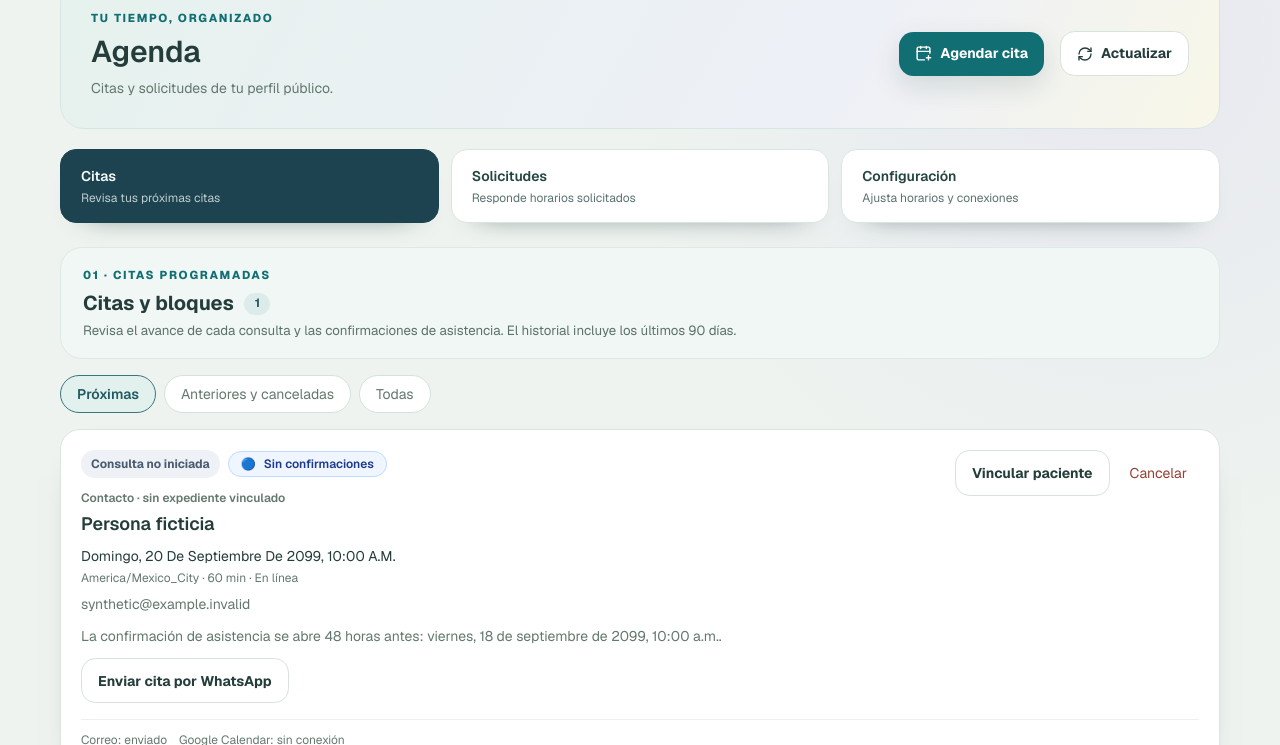
Test: private agenda › resolves internal blocks with verified private auth, not a public slug
Expected: the heading "Persona ficticia" is shown, [81, 512, 215, 536]
Click the button "Configuración" at (909,176), box [841, 149, 1220, 223]
(page scrolled)
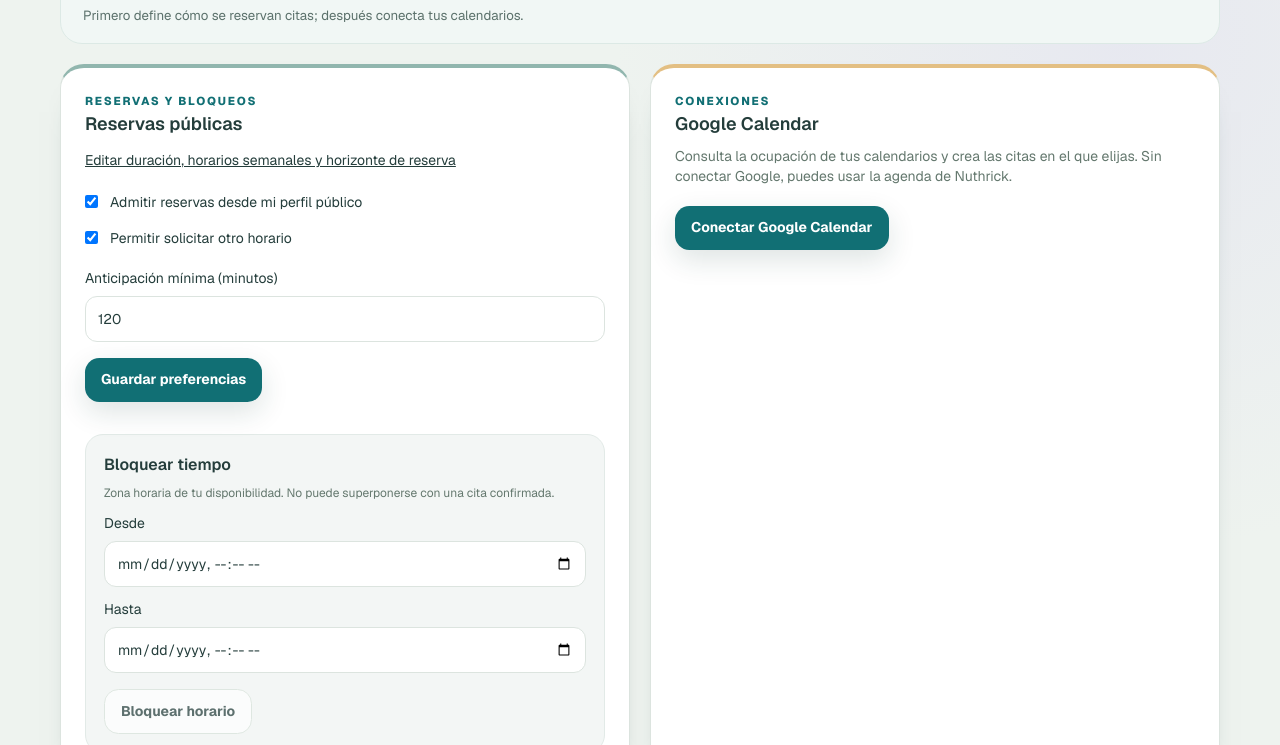
Type "2026-09-20T10:00" into the field labelled "Desde" at (345,564), box [104, 541, 586, 587]
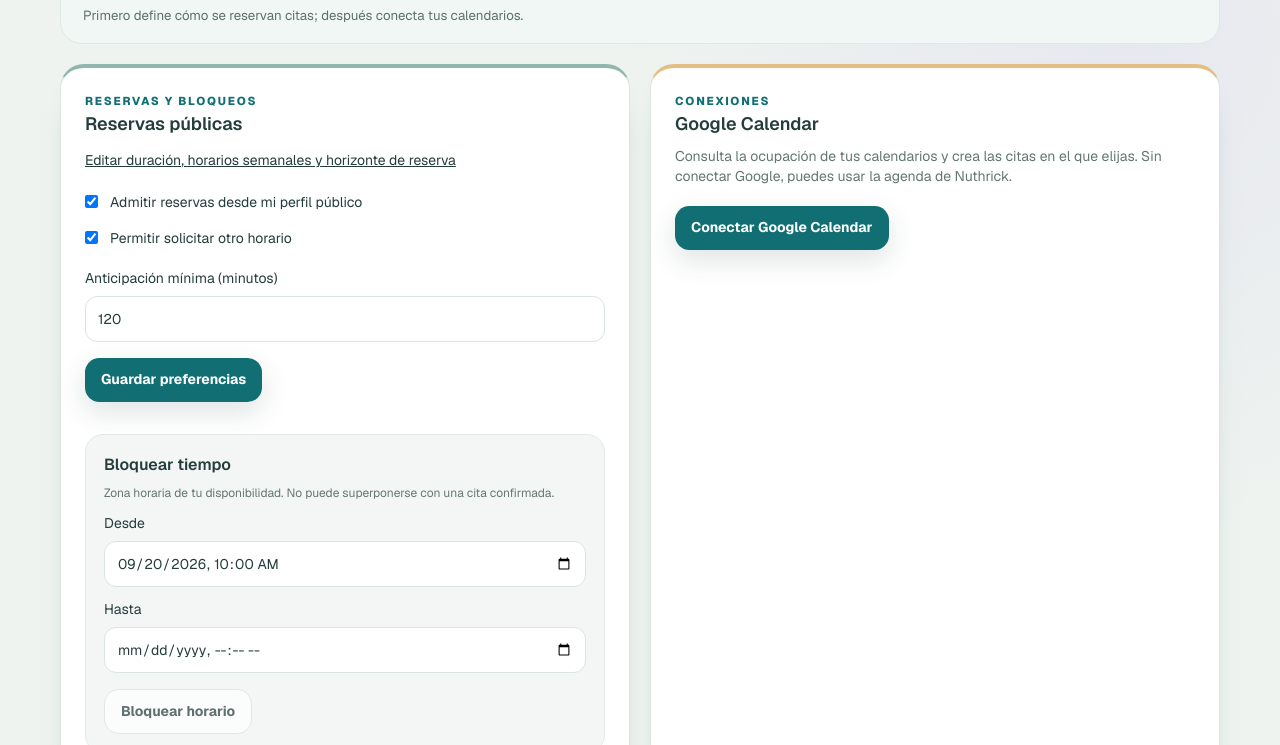
Type "2026-09-20T11:00" into the field labelled "Hasta" at (345,650), box [104, 627, 586, 673]
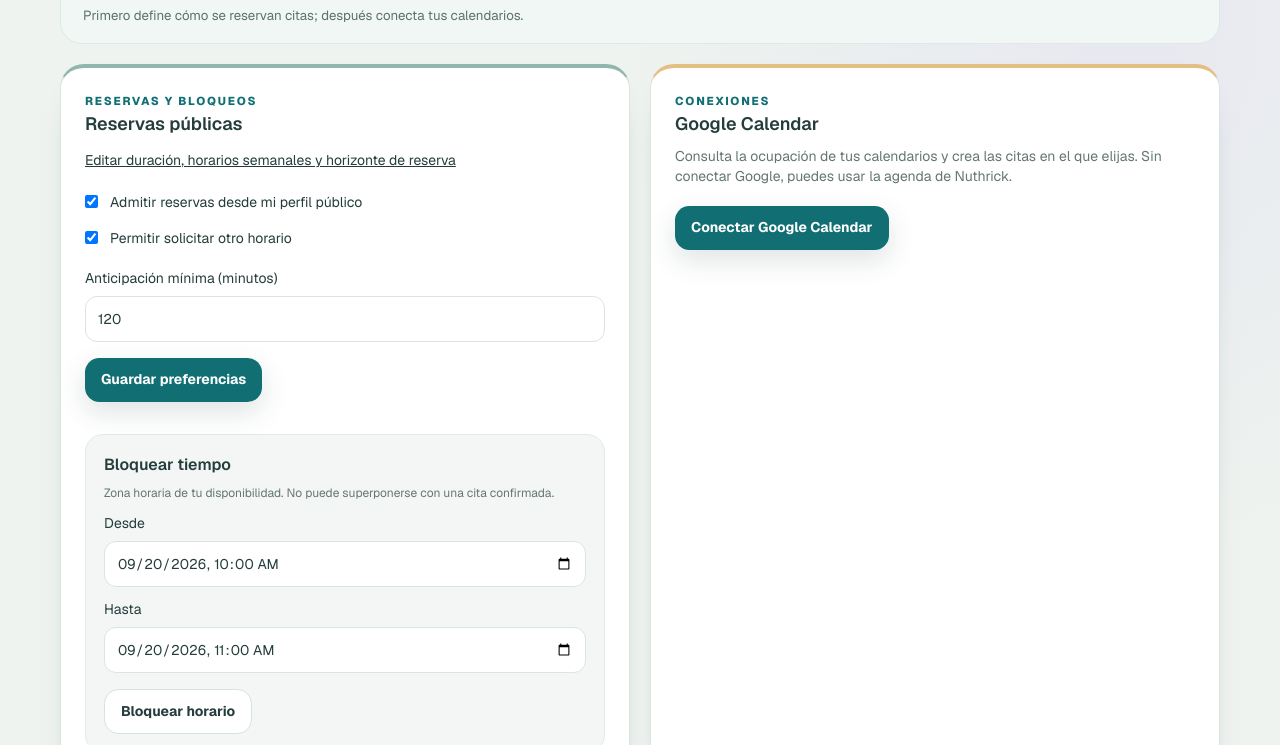
Click the button "Bloquear horario" at (178,712), box [104, 689, 252, 734]
(page scrolled)
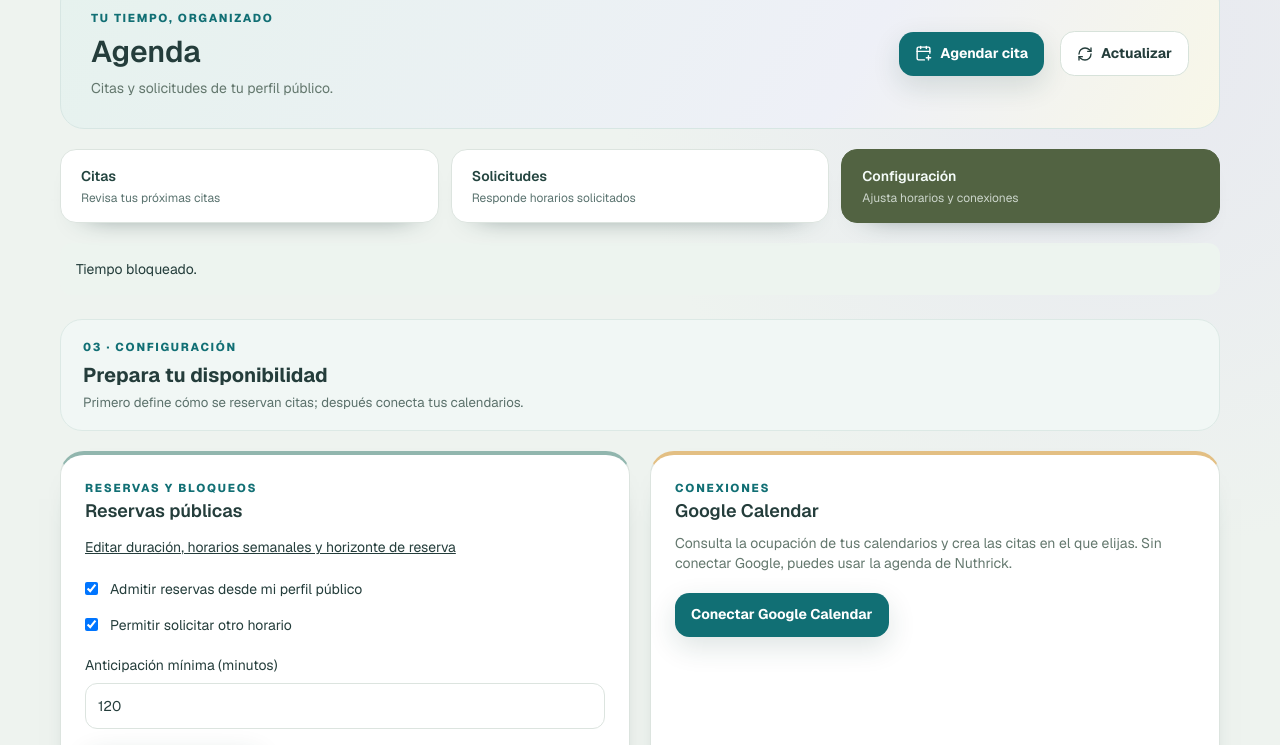
Now the text "Tiempo bloqueado." is shown, box [60, 243, 1220, 295]
